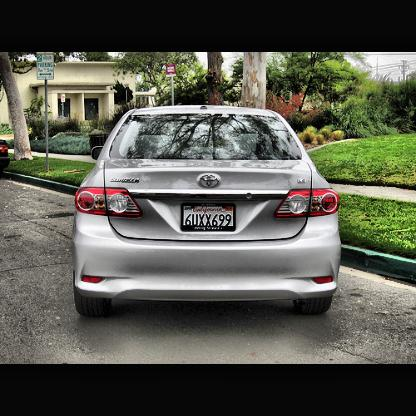Toyota Corolla Sedan 2012: (70, 102, 347, 319)
